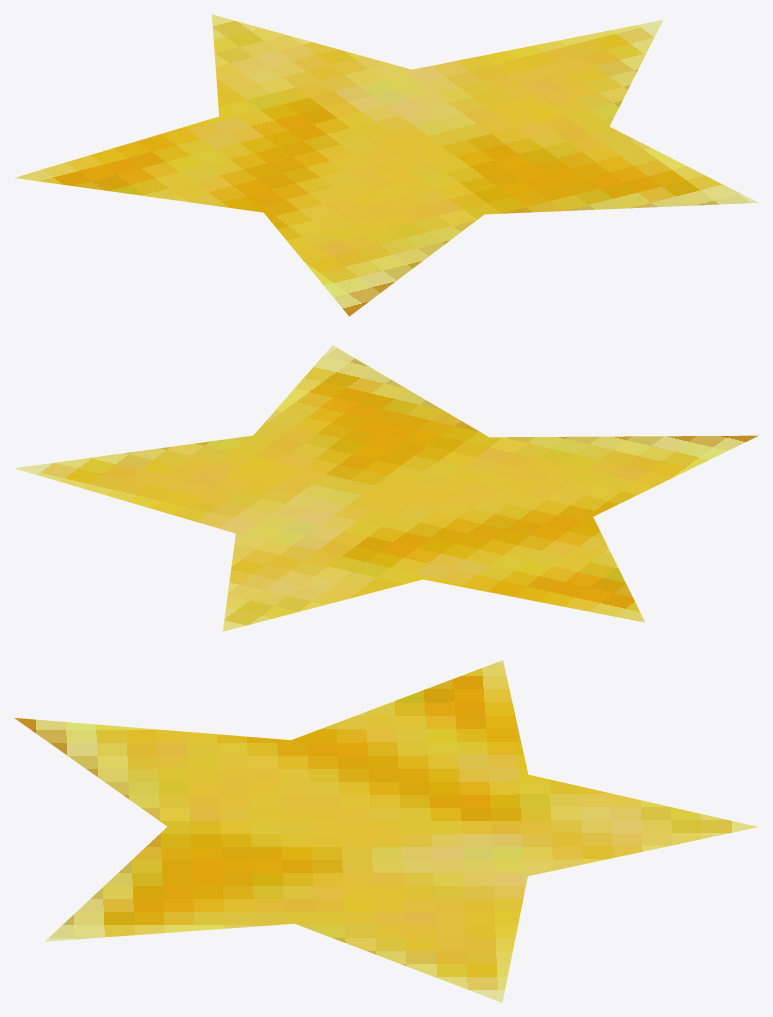
The model's file is xingxing_02.FBX.
3 views of the same model, one above another, from view 1: azimuth 30°, elevation 25°; view 2: azimuth 150°, elevation 25°; view 3: azimuth 270°, elevation 25° (orthographic). The views are drawn at different scales.
Parts seen in each view (by area): view 1: xingxing_02; view 2: xingxing_02; view 3: xingxing_02.
Part boxes in pixels (bbox=[...]): xingxing_02: bbox=[14, 14, 758, 316]; xingxing_02: bbox=[15, 345, 758, 631]; xingxing_02: bbox=[14, 660, 757, 1002].
Size of the model in its own units: 25.8 by 1.45e-15 by 23.69.
